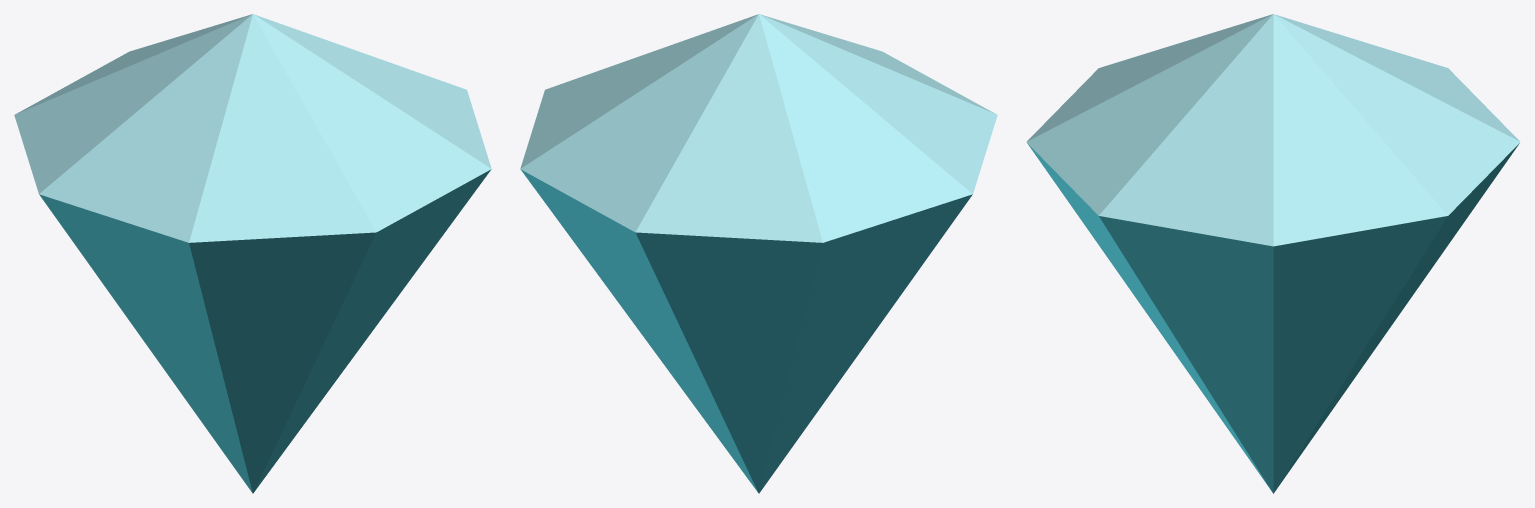
The model's file is diamant.glb.
3 renders of one model, left to right at view 1: azimuth 30°, elevation 25°; view 2: azimuth 150°, elevation 25°; view 3: azimuth 270°, elevation 25°, orthographic.
Parts seen in each view (by area): view 1: diamant; view 2: diamant; view 3: diamant.
Boxes of the visible parts, x1,y1,x2,y2 form: diamant: [14, 14, 491, 493]; diamant: [520, 14, 997, 493]; diamant: [1026, 14, 1520, 493].
Size of the model in its own units: 0.7 by 0.75 by 0.7.
